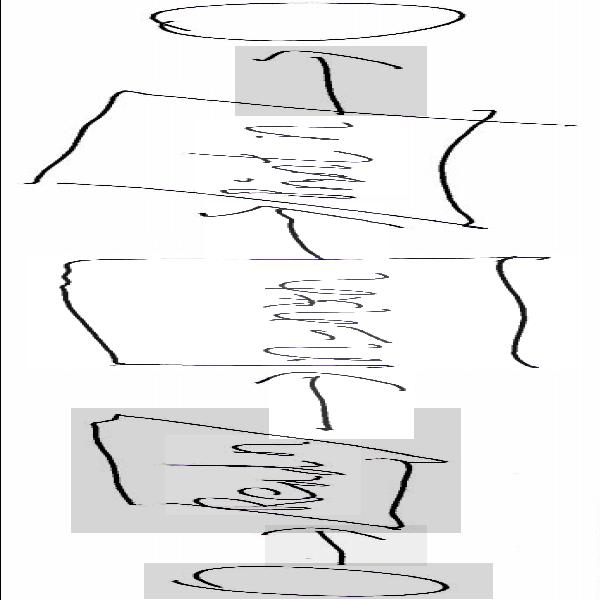arrow: (234, 46, 426, 116), (204, 203, 388, 259), (268, 368, 413, 439), (264, 525, 426, 566)
data: (16, 86, 515, 235), (71, 408, 460, 532)
process: (26, 254, 582, 370)
terminator: (126, 0, 509, 42), (143, 563, 492, 599)
text: (194, 120, 406, 195), (260, 272, 436, 362), (164, 435, 360, 515)
